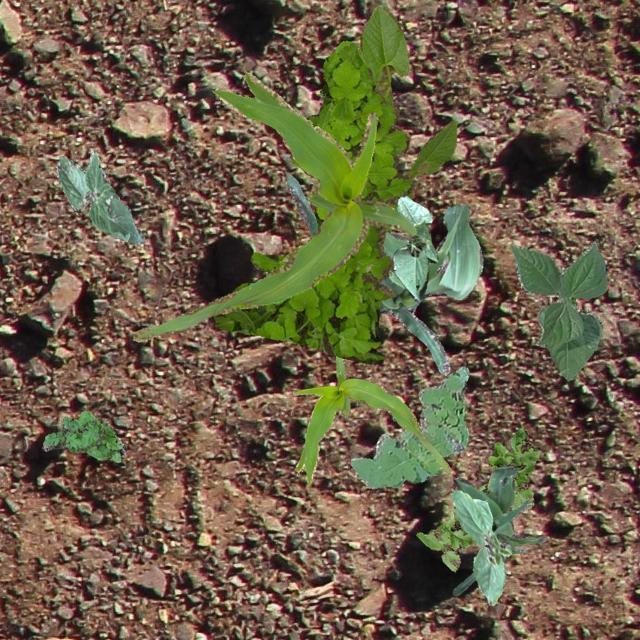crop: (132, 70, 416, 340), (285, 172, 481, 374), (292, 354, 451, 484), (509, 242, 606, 378), (452, 464, 544, 596), (54, 150, 144, 244), (450, 488, 510, 604), (360, 4, 408, 104), (392, 194, 436, 300), (404, 118, 456, 198)
weed: (212, 39, 414, 363), (414, 426, 538, 570), (349, 364, 468, 488), (41, 409, 126, 462)
